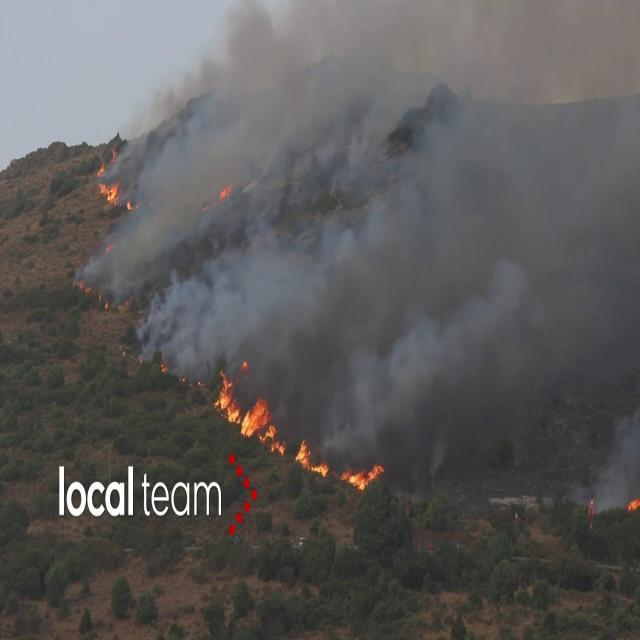Fire: (292, 438, 386, 494), (214, 367, 278, 445), (95, 147, 123, 209)
Smoke: (96, 0, 640, 444)
